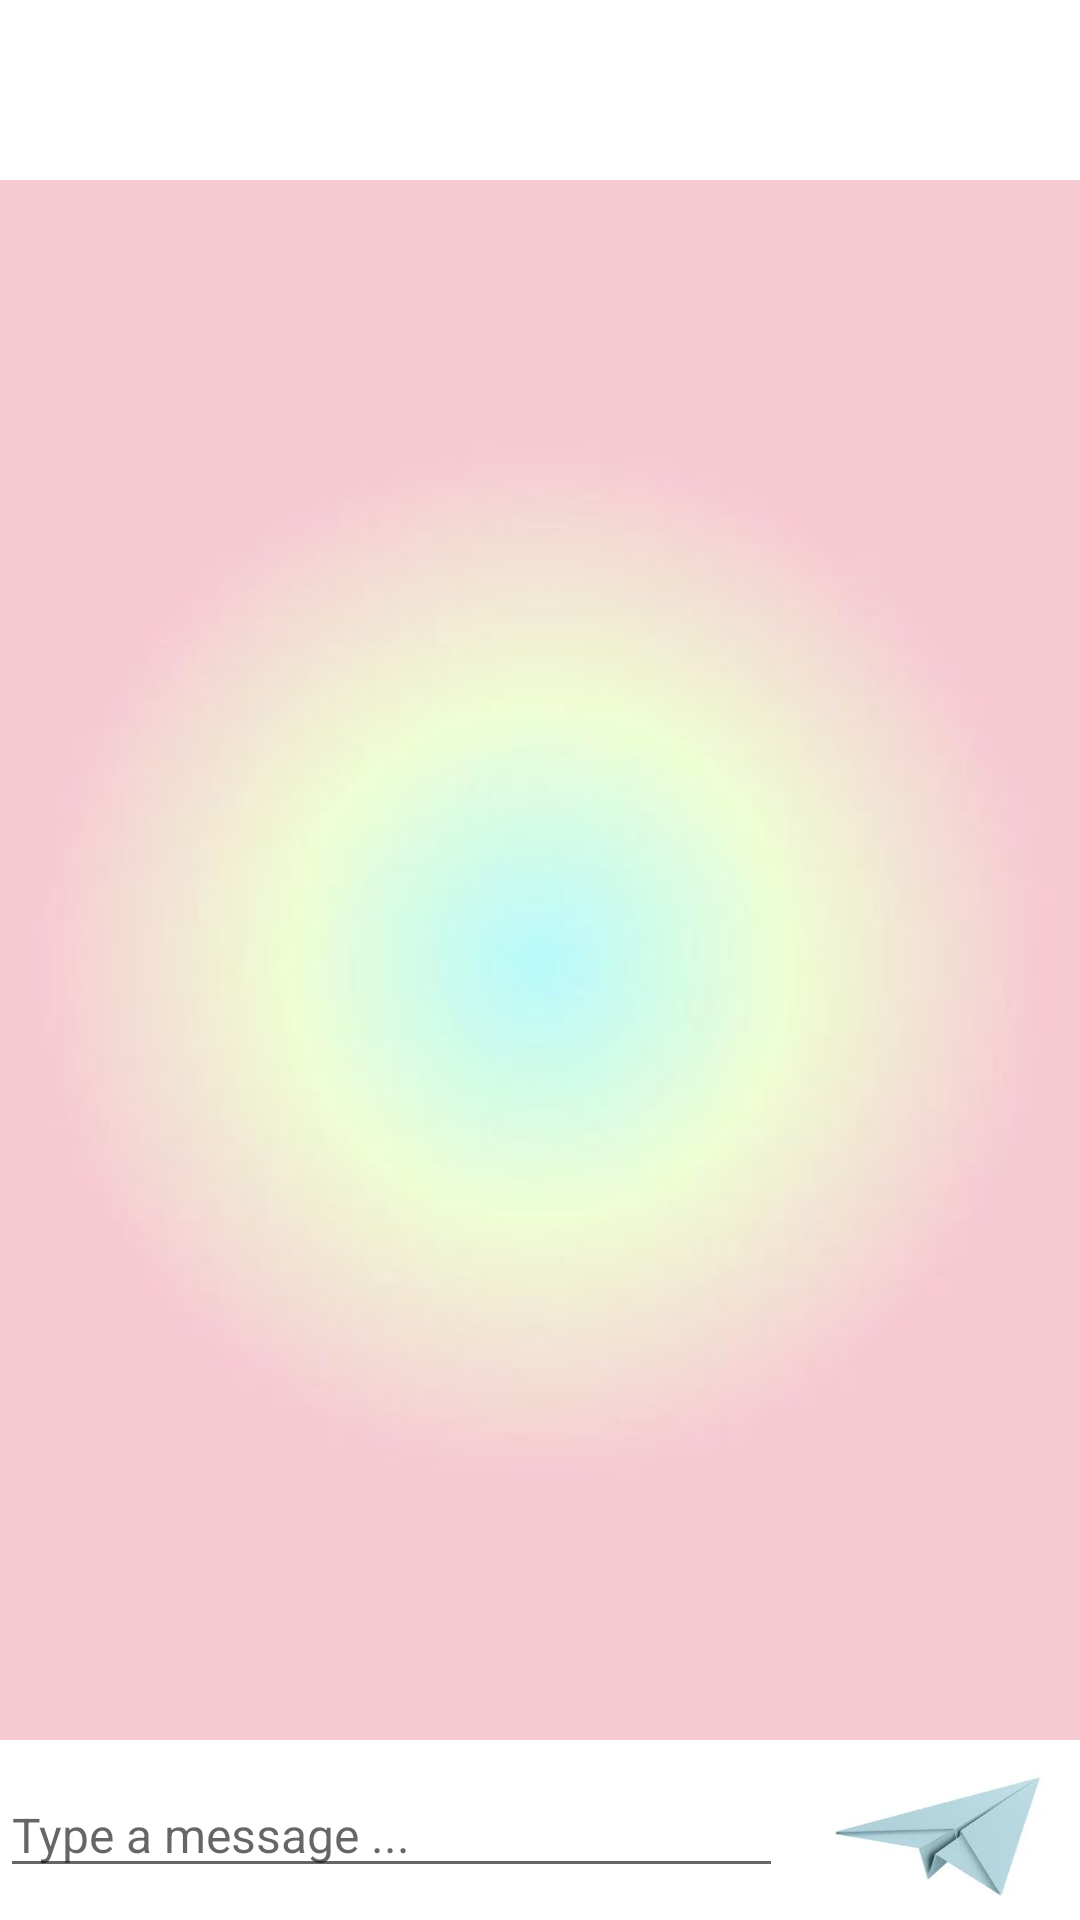

Named icons in this screenshot (1080px×1920px) and their centers, point (x, y):
send: point (937, 1836)
